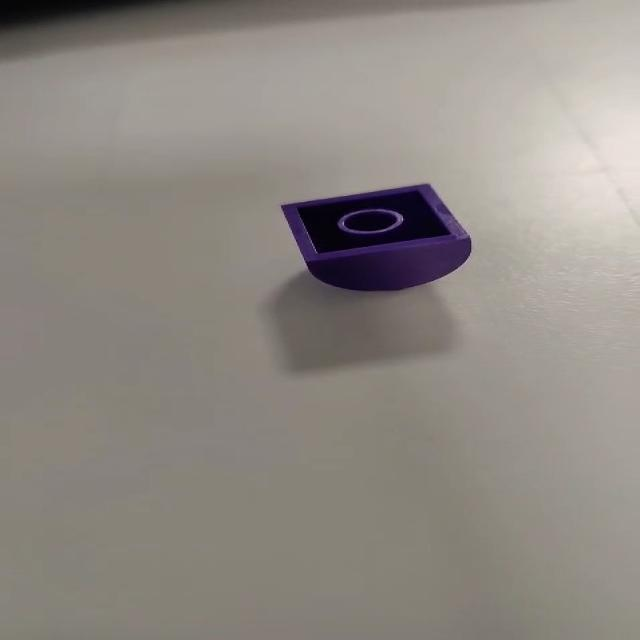H2x2x1: (281, 182, 472, 294)
